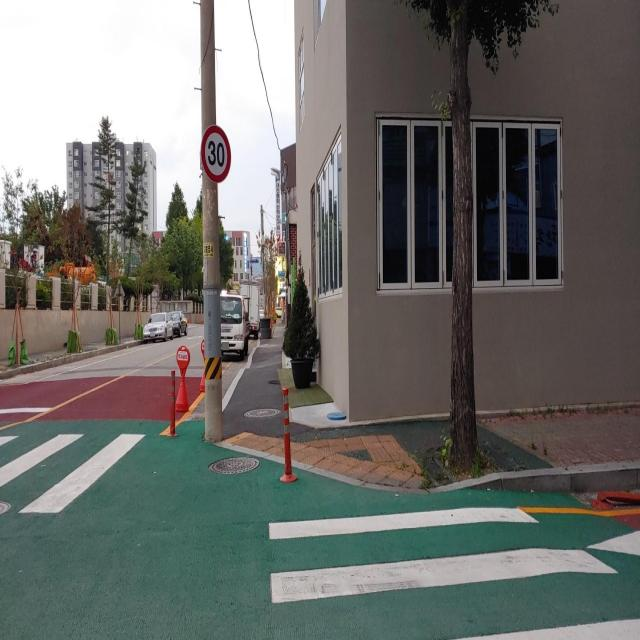횡단보도: (266, 503, 640, 640), (0, 424, 146, 518)
